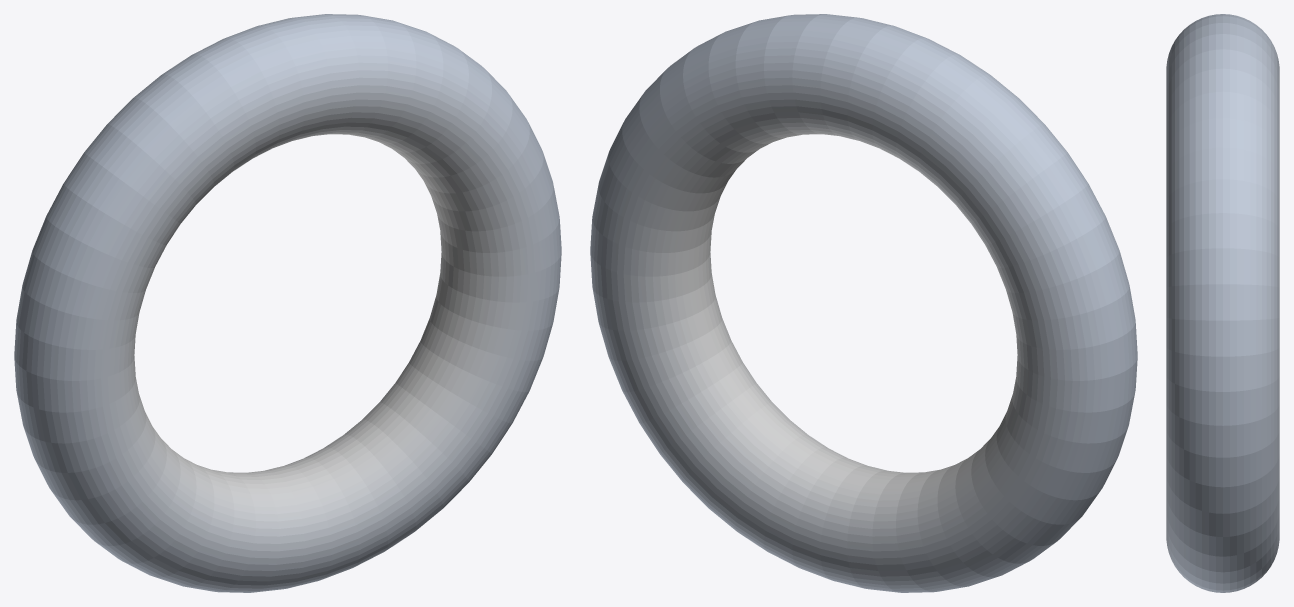
3 views of the same model, side by side, from view 1: azimuth 30°, elevation 25°; view 2: azimuth 150°, elevation 25°; view 3: azimuth 270°, elevation 25° (orthographic). The views are drawn at different scales.
Visible parts, largest first — view 1: world; view 2: world; view 3: world.
Part boxes in pixels (x1,y1,x2,y2): world: (14, 14, 561, 592); world: (590, 14, 1137, 592); world: (1166, 14, 1279, 592).
Size of the model in its own units: 26.53 by 26.48 by 5.19.
